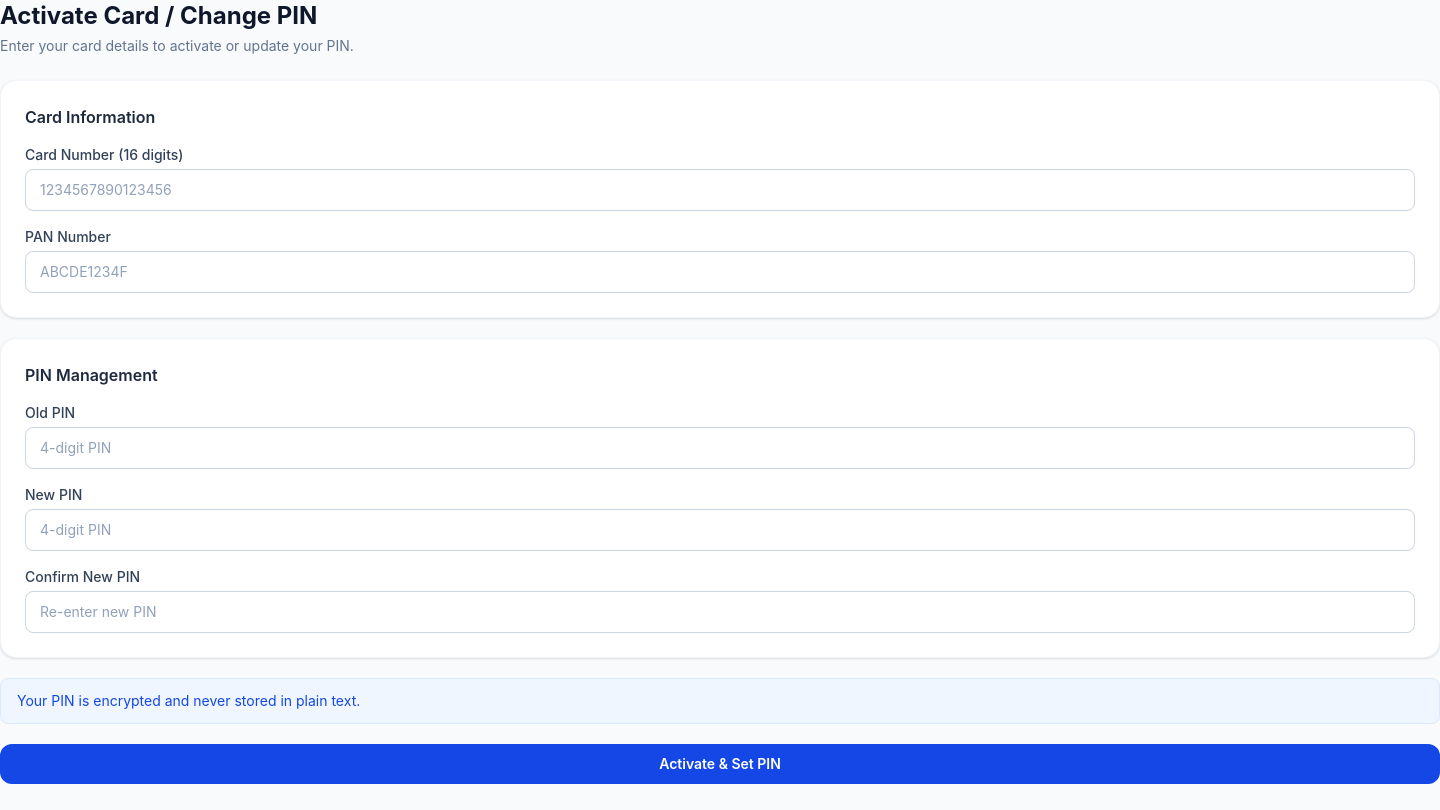
Test: ActivateCard page › shows PAN validation error for invalid PAN
In the field labelled "PAN Number": x=720, y=272 x1=25 y1=251 x2=1415 y2=293, type "invalid"
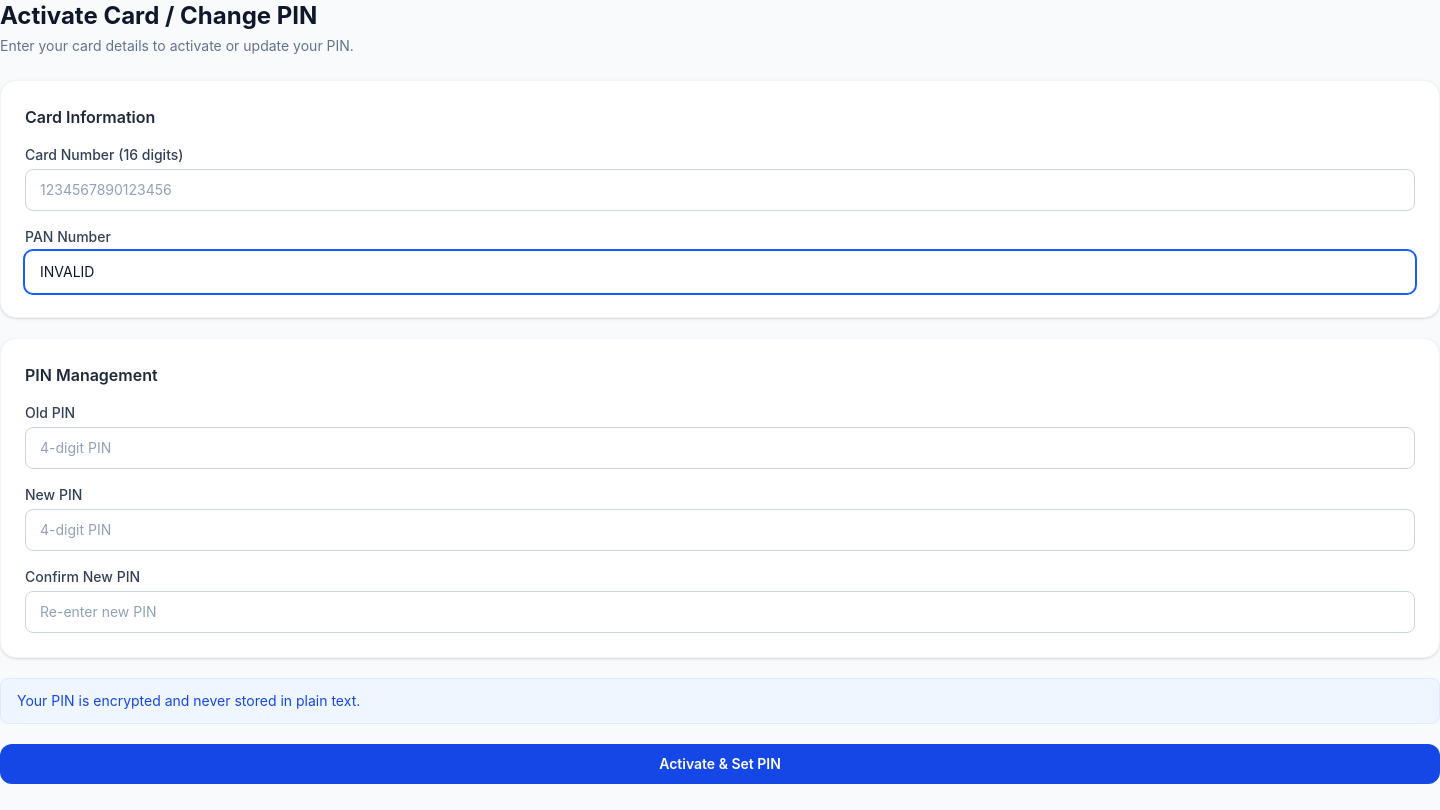
Click the button "Activate & Set PIN": x=720, y=764 x1=0 y1=744 x2=1439 y2=784
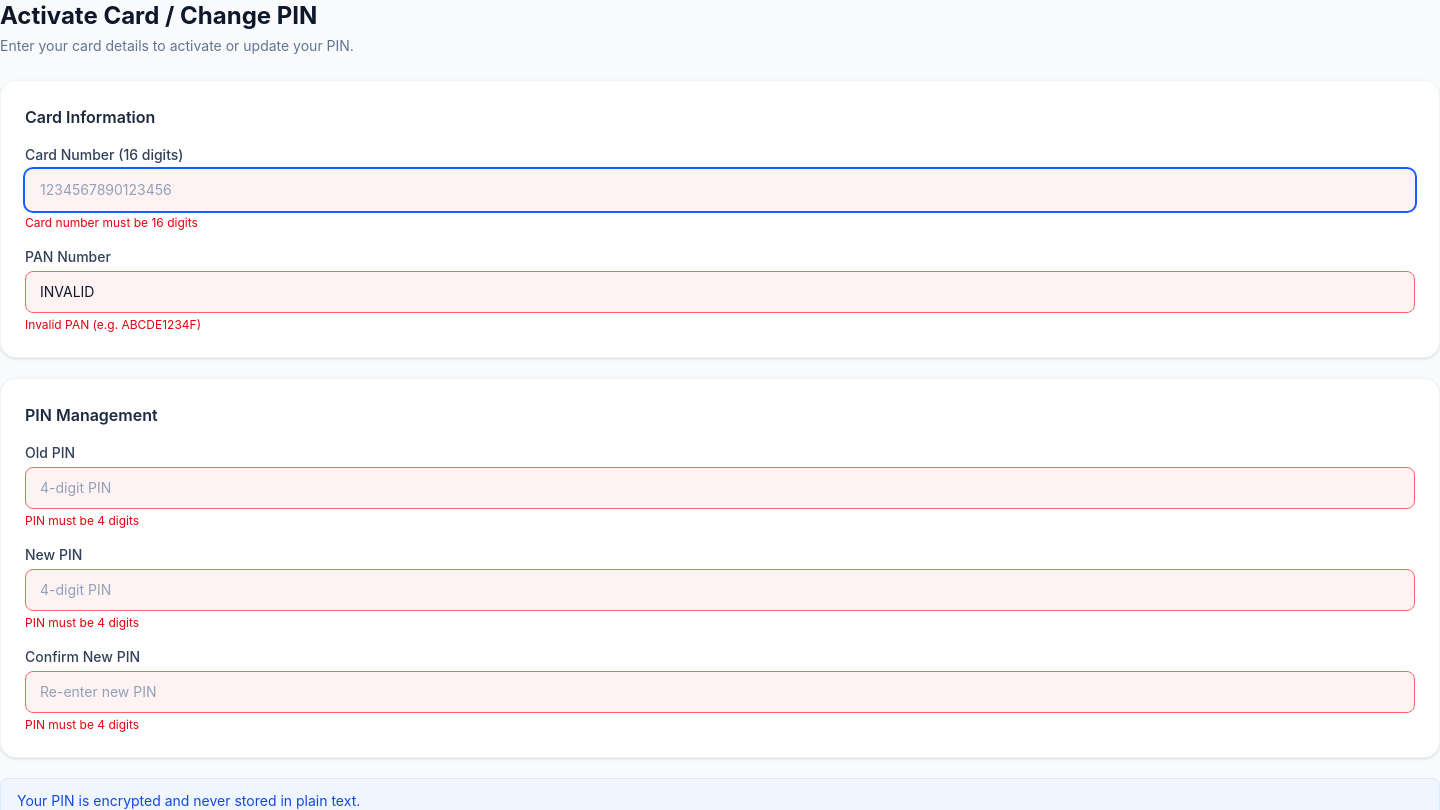
Expected: the text "Invalid PAN (e.g. ABCDE1234F)" is shown, x1=25 y1=317 x2=201 y2=332
